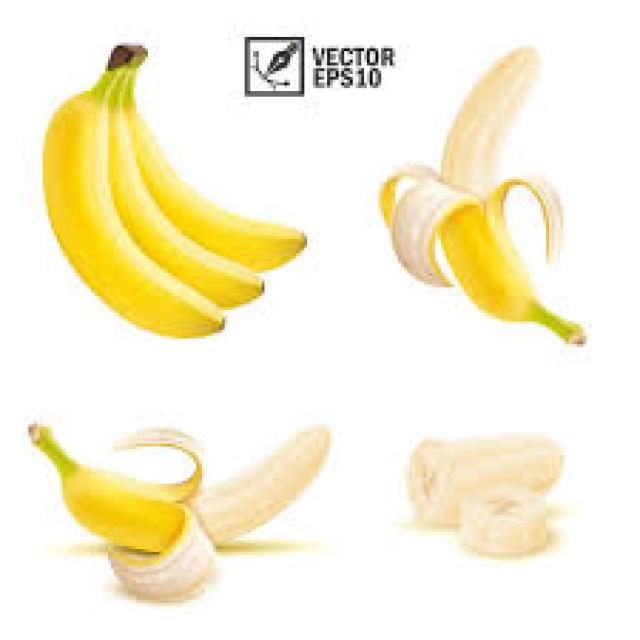banana: (40, 40, 307, 338), (375, 43, 586, 347), (26, 418, 330, 600), (399, 428, 584, 557)
